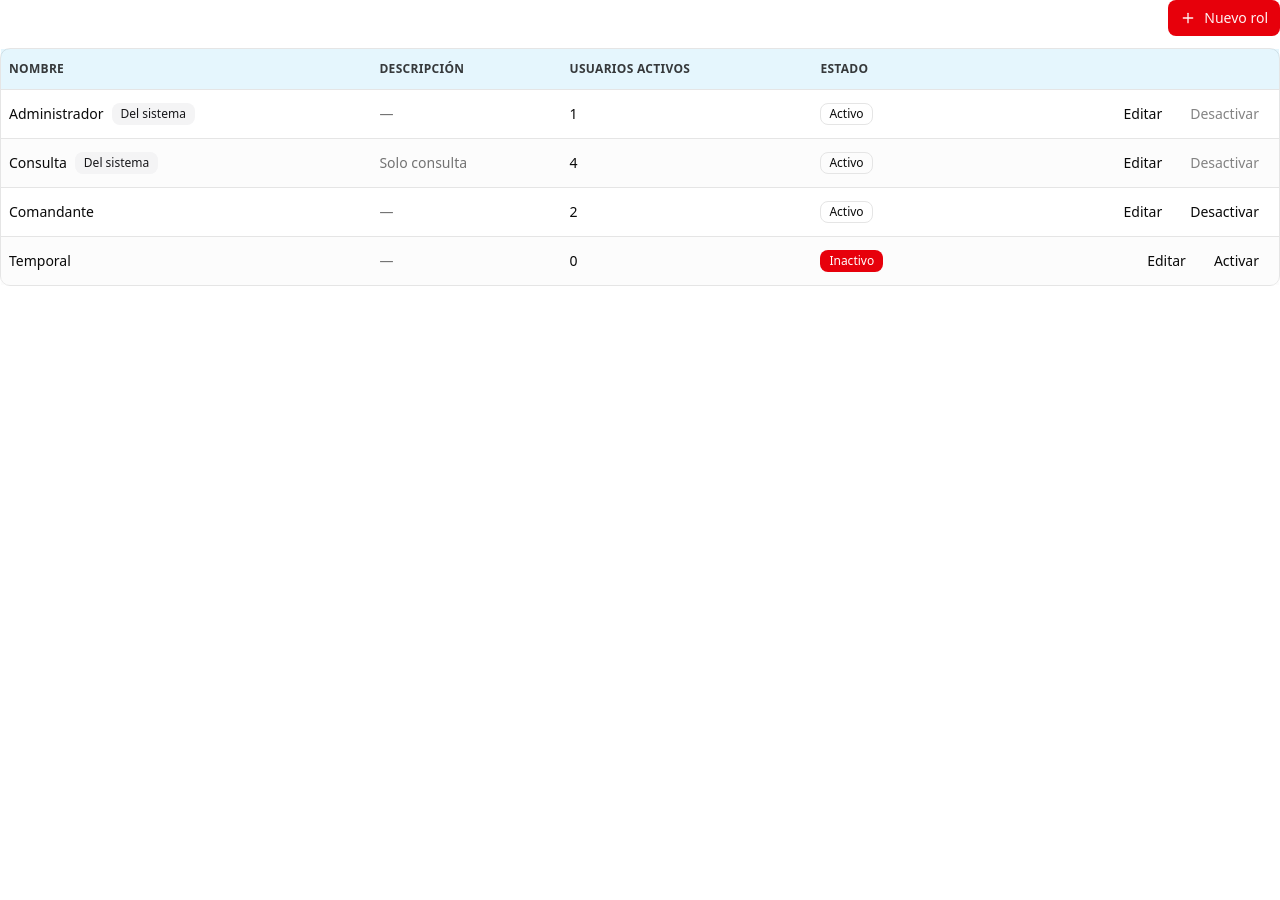
Test case: RolesTab (US4, FR-013) › en un rol del sistema solo se edita la descripción (RN-020)
Later steps or results of the test are not shown.
Check: the row "Consulta" is shown, box [1,138,1279,187]
Click the button with aria-label "Editar Consulta" at (1143, 162), box [1112,146,1174,178]
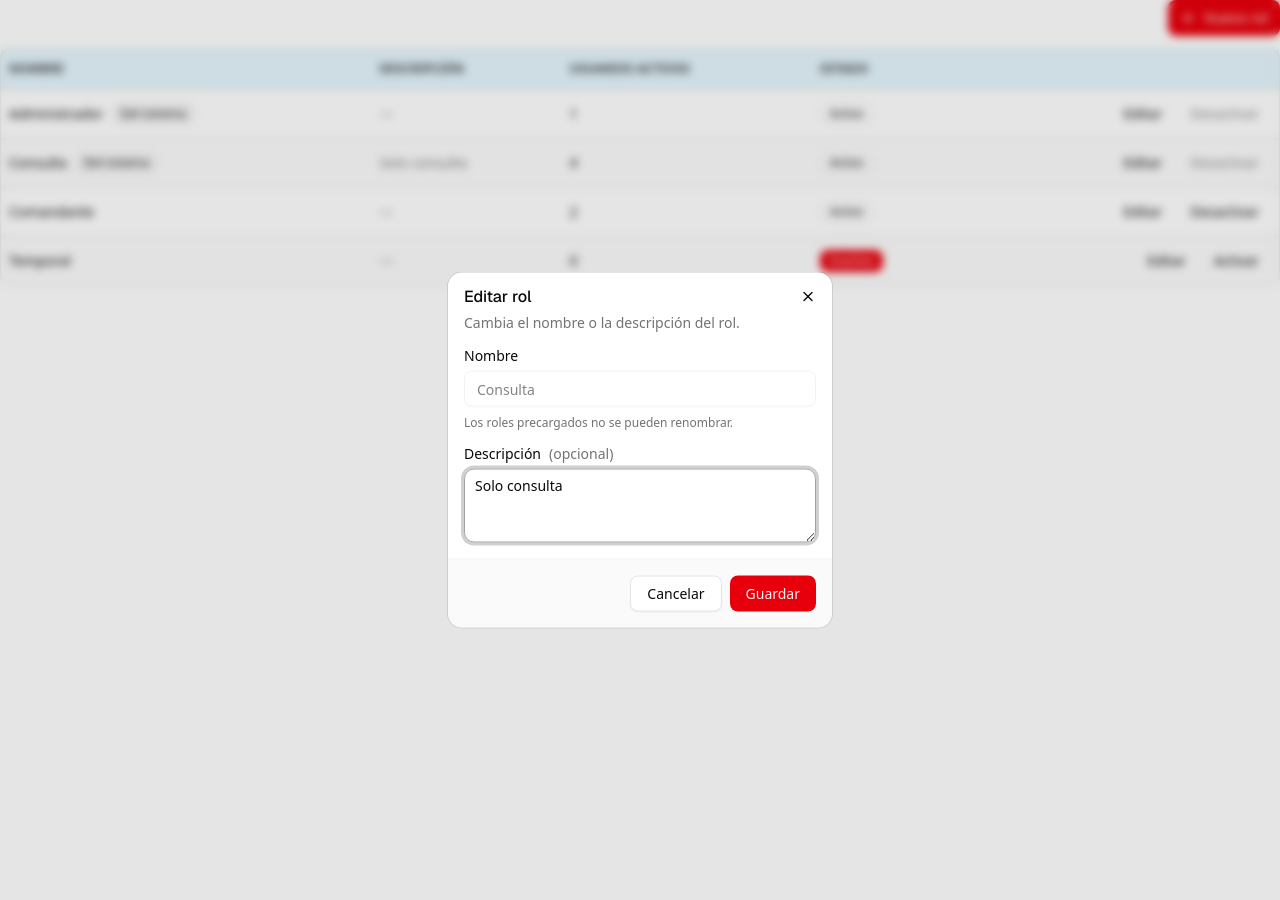
Check: the field labelled "Nombre" is disabled, box [464,370,816,406]
